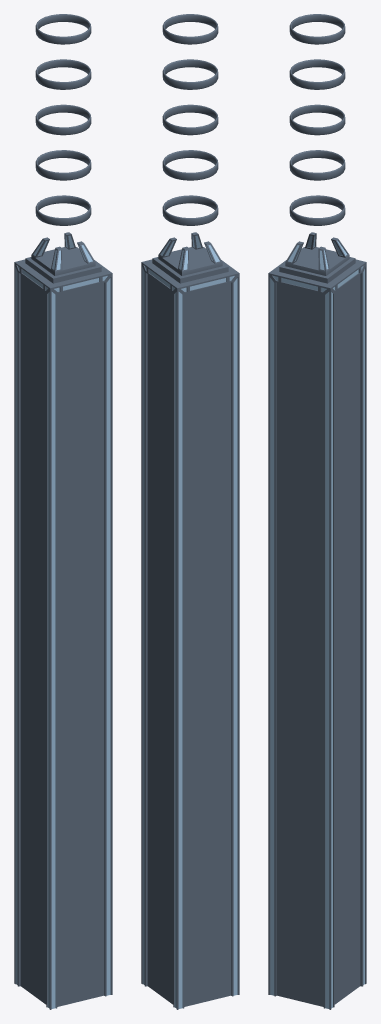
Rendered from P_TowerRings.fbx.
3 views of the same model, side by side, from view 1: azimuth 30°, elevation 25°; view 2: azimuth 210°, elevation 25°; view 3: azimuth 330°, elevation 25° (orthographic).
Parts seen in each view (by area): view 1: P_BG_Tower_var1, P_CercleLevitation.001, P_CercleLevitation, P_CercleLevitation.003, P_CercleLevitation.004, P_CercleLevitation.002; view 2: P_BG_Tower_var1, P_CercleLevitation.001, P_CercleLevitation, P_CercleLevitation.003, P_CercleLevitation.004, P_CercleLevitation.002; view 3: P_BG_Tower_var1, P_CercleLevitation.001, P_CercleLevitation, P_CercleLevitation.003, P_CercleLevitation.004, P_CercleLevitation.002.
Part boxes in pixels (<box>): P_BG_Tower_var1: <box>14,232,112,1009</box>; P_CercleLevitation.001: <box>35,150,91,180</box>; P_CercleLevitation: <box>35,195,91,225</box>; P_CercleLevitation.003: <box>35,59,91,89</box>; P_CercleLevitation.004: <box>35,14,91,44</box>; P_CercleLevitation.002: <box>35,104,91,135</box>; P_BG_Tower_var1: <box>141,232,239,1009</box>; P_CercleLevitation.001: <box>162,150,218,180</box>; P_CercleLevitation: <box>162,195,218,225</box>; P_CercleLevitation.003: <box>162,59,218,89</box>; P_CercleLevitation.004: <box>162,14,218,44</box>; P_CercleLevitation.002: <box>162,104,218,135</box>; P_BG_Tower_var1: <box>268,232,366,1009</box>; P_CercleLevitation.001: <box>289,150,345,180</box>; P_CercleLevitation: <box>289,195,345,225</box>; P_CercleLevitation.003: <box>289,59,345,89</box>; P_CercleLevitation.004: <box>289,14,345,44</box>; P_CercleLevitation.002: <box>289,104,345,135</box>.
Bounding box in the file's own units: 2619 × 38769 × 2619.
